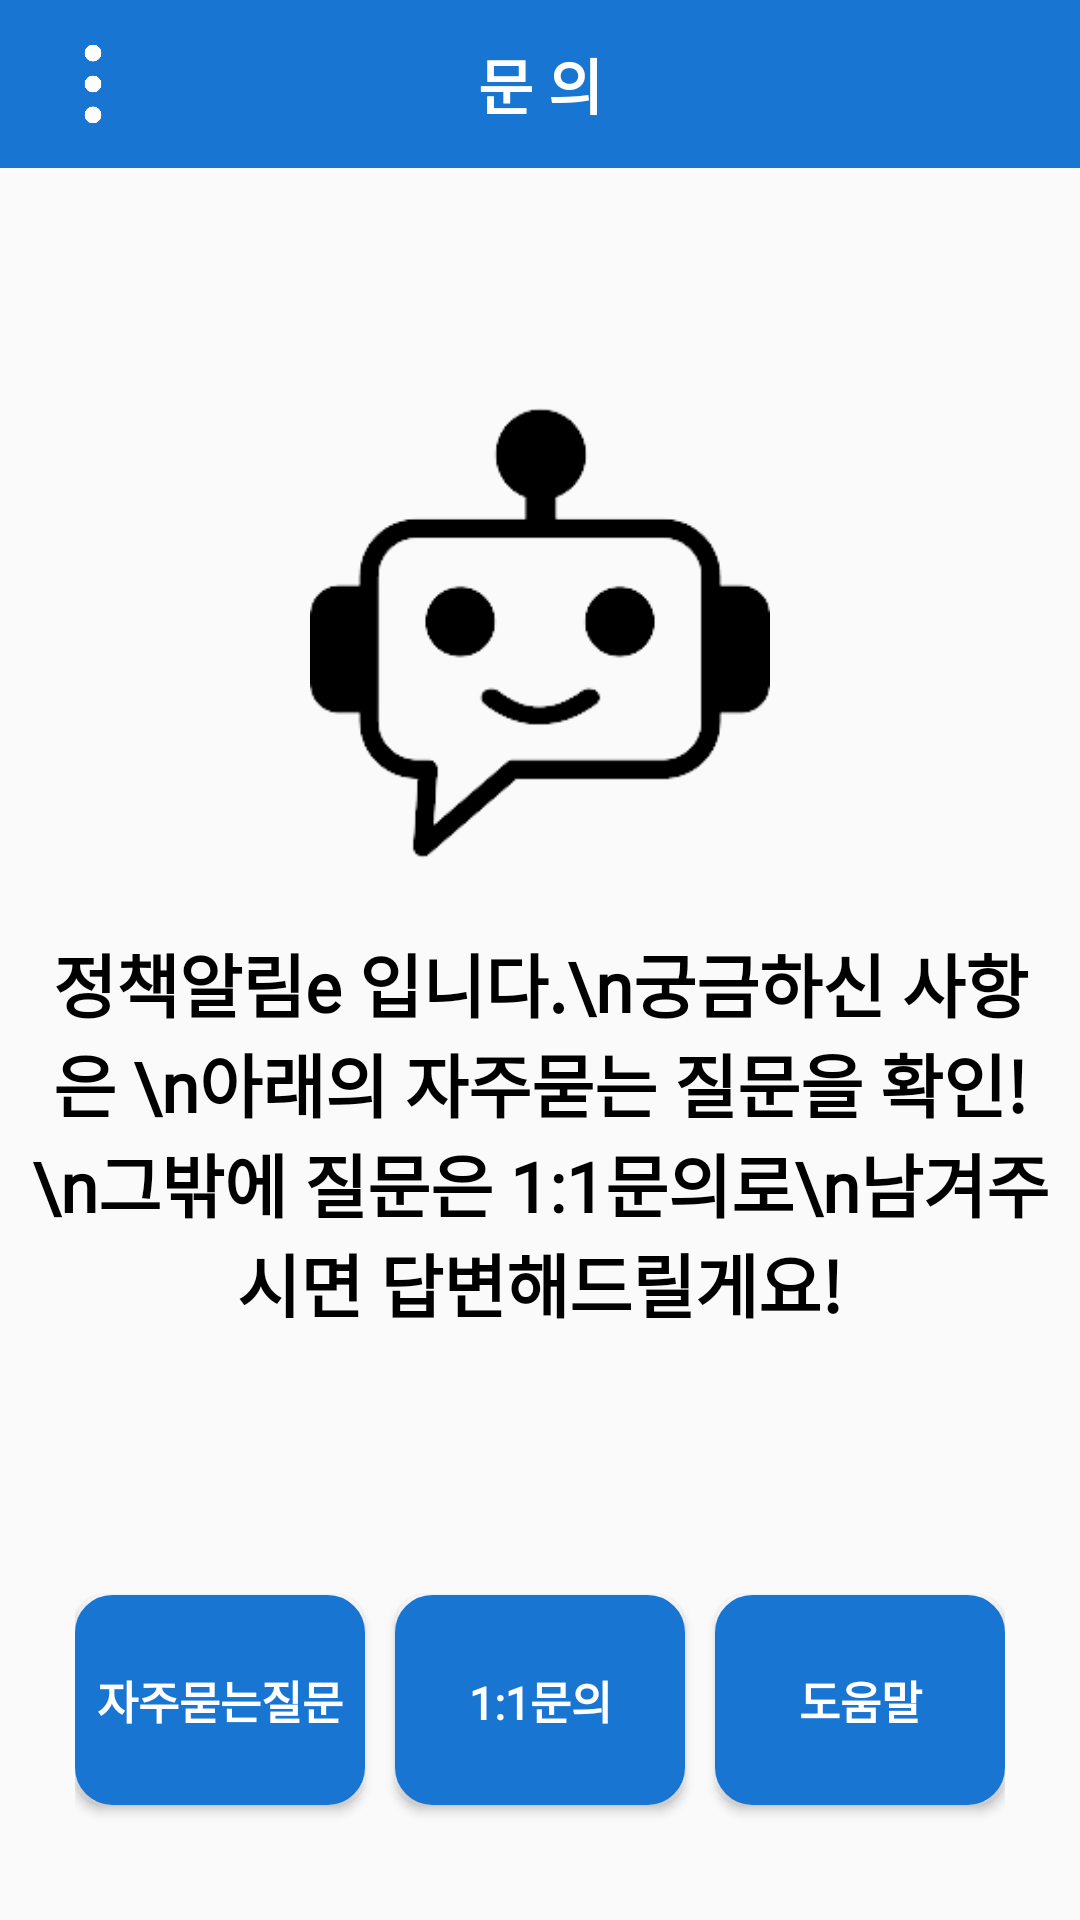

Screen size 1080px x 1920px. Icon name, then its box in pixels as (x1,y1,x2,y2):
menu: (84,45,102,123)
